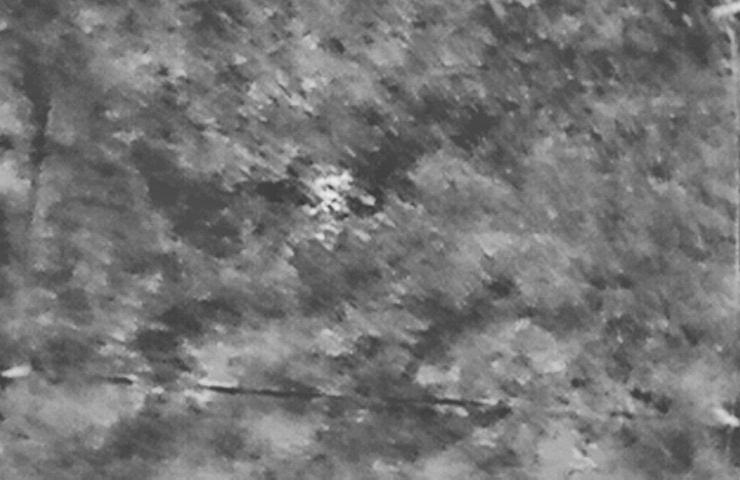landmines: (305, 167, 357, 213)
